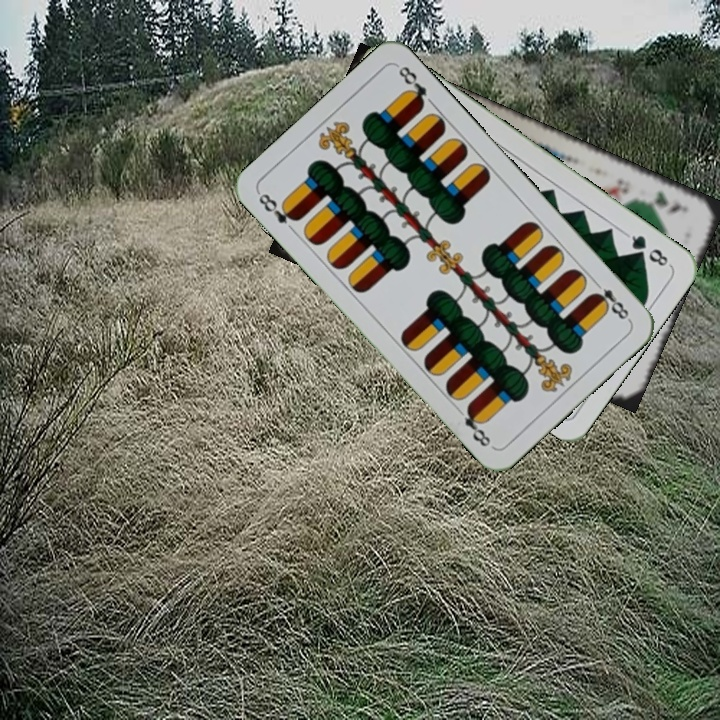E8: (588, 275, 633, 324), (254, 189, 302, 227)
G8: (621, 229, 673, 269)
GK: (636, 187, 691, 217)
